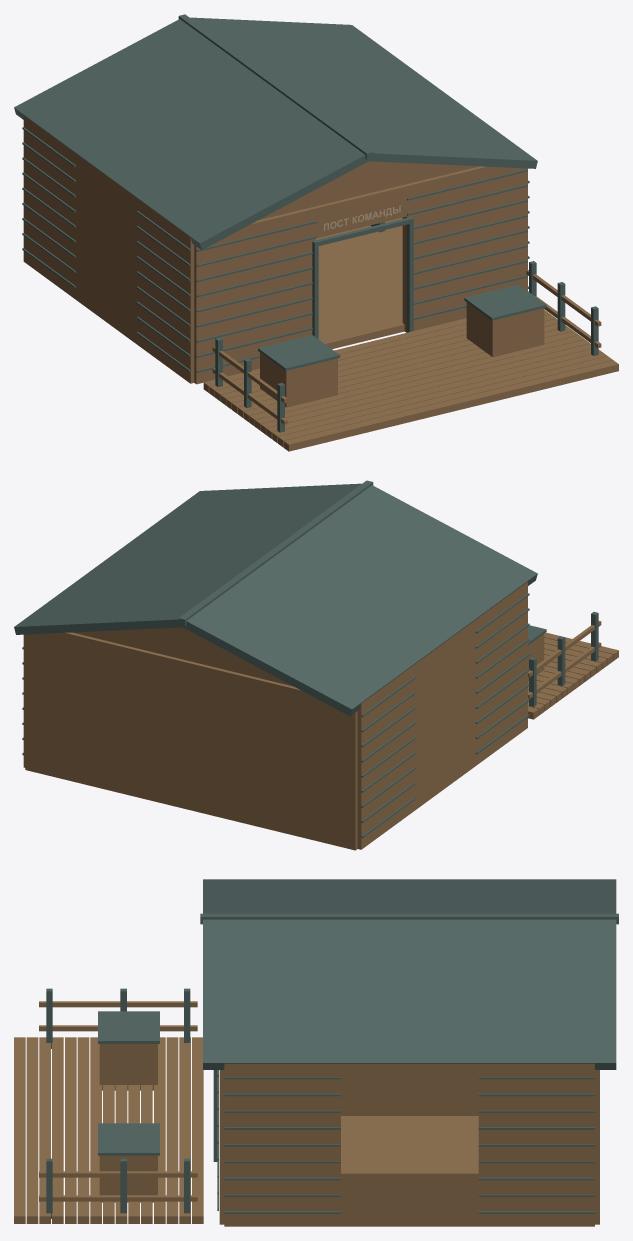
Rendered from ranger_base.glb.
3 views of the same model, one above another, from view 1: azimuth 30°, elevation 25°; view 2: azimuth 150°, elevation 25°; view 3: azimuth 270°, elevation 25° (orthographic). The views are drawn at different scales.
Parts seen in each view (by area): view 1: Cabin roof-col, Left wall-col, Cabin roof-col.001, Door flank-col.001, Door flank-col, Cabin floor-col, Entry deck plank-col.014, Cabin gable-col, Sorting crate-col.001, Door header-col, Sorting crate-col, Entry deck plank-col.013 (+19 smaller); view 2: Back wall-col, Cabin roof-col, Left wall-col, Cabin roof-col.001, Cabin gable-col.001, Ridge cap; view 3: Cabin roof-col.001, Window flank-col, Window flank-col.001, Cabin roof-col, Window sill wall-col, Window upper wall-col, Cabin floor-col, Ridge cap, Sorting crate-col, Entry deck plank-col.013, Entry deck plank-col.002, Entry deck plank-col.009 (+22 smaller).
Boxes of the visible parts, <box> form: Cabin roof-col: <box>14,19,372,250</box>; Left wall-col: <box>23,115,194,383</box>; Cabin roof-col.001: <box>190,17,537,168</box>; Door flank-col.001: <box>402,166,526,332</box>; Door flank-col: <box>194,207,315,384</box>; Cabin floor-col: <box>316,217,404,348</box>; Entry deck plank-col.014: <box>283,360,618,451</box>; Cabin gable-col: <box>259,161,478,219</box>; Sorting crate-col.001: <box>466,302,544,357</box>; Door header-col: <box>314,184,406,238</box>; Sorting crate-col: <box>260,352,337,407</box>; Entry deck plank-col.013: <box>278,356,613,447</box>; Back wall-col: <box>25,632,357,850</box>; Cabin roof-col: <box>180,485,537,716</box>; Left wall-col: <box>357,582,527,849</box>; Cabin roof-col.001: <box>14,483,361,634</box>; Cabin gable-col.001: <box>72,627,292,686</box>; Ridge cap: <box>178,480,373,625</box>; Cabin roof-col.001: <box>203,919,616,1069</box>; Window flank-col: <box>224,1063,340,1226</box>; Window flank-col.001: <box>478,1063,594,1226</box>; Cabin roof-col: <box>203,879,616,913</box>; Window sill wall-col: <box>341,1169,478,1226</box>; Window upper wall-col: <box>341,1063,478,1115</box>; Cabin floor-col: <box>341,1116,478,1169</box>; Ridge cap: <box>200,913,618,924</box>; Sorting crate-col: <box>99,1044,157,1090</box>; Entry deck plank-col.013: <box>26,1037,38,1223</box>; Entry deck plank-col.002: <box>166,1037,178,1223</box>; Entry deck plank-col.009: <box>77,1037,89,1223</box>.
Bounding box in the file's own units: 8.26 × 4.58 × 11.42.
